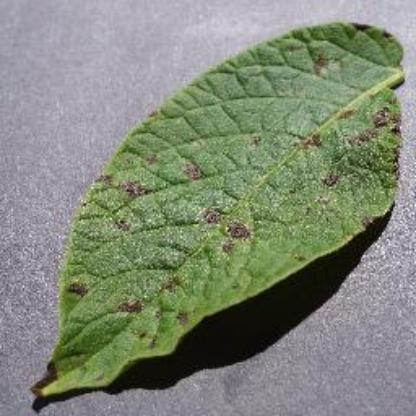Early-Blight: (32, 18, 408, 406)
